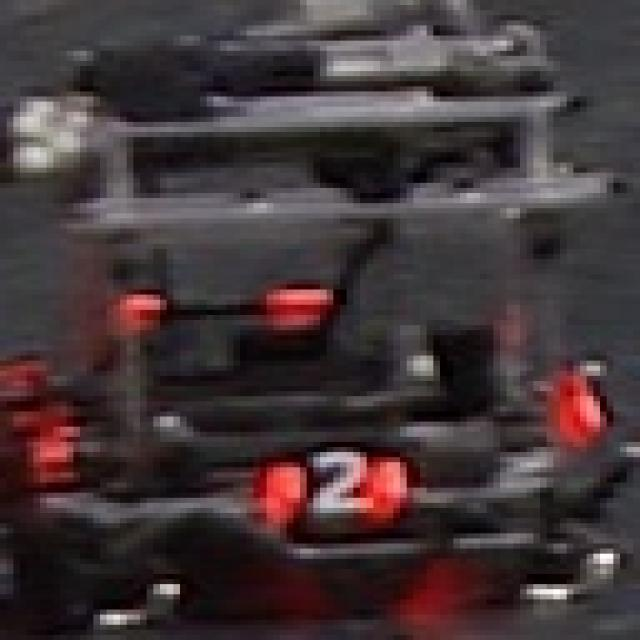R2: (253, 447, 407, 533)
